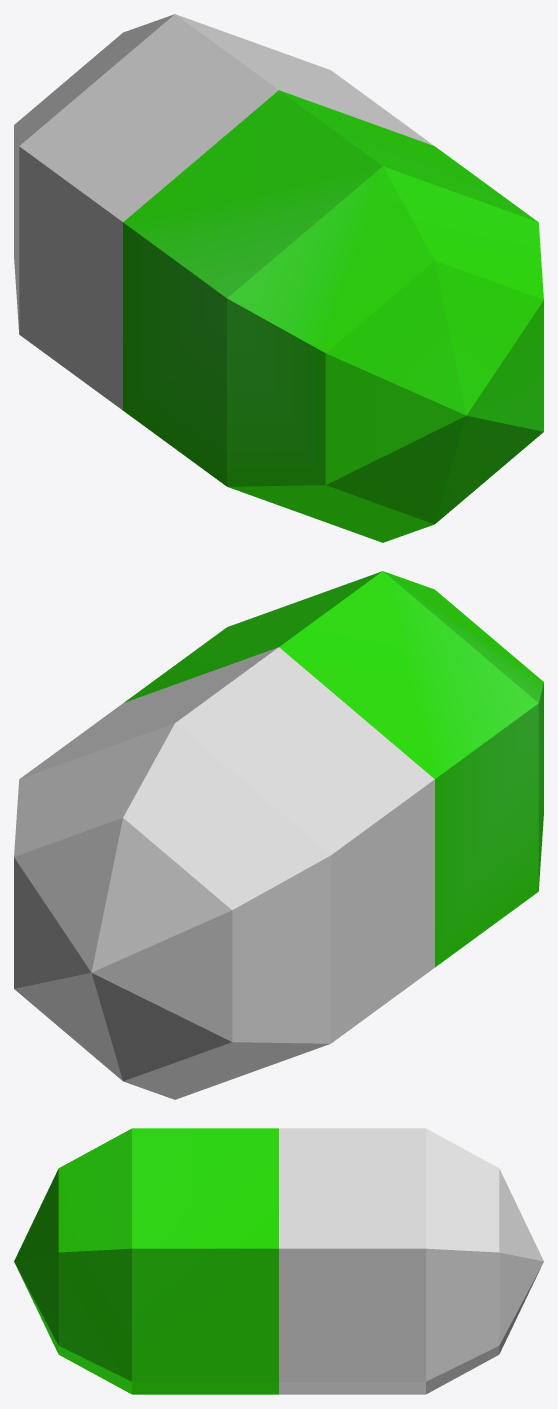
File: pill.glb
3 renders of one model, top to bottom at view 1: azimuth 30°, elevation 25°; view 2: azimuth 150°, elevation 25°; view 3: azimuth 270°, elevation 25°, orthographic. The views are drawn at different scales.
Visible parts, largest first — view 1: Cylinder; view 2: Cylinder; view 3: Cylinder.
Boxes of the visible parts, x1,y1,x2,y2 form: Cylinder: (14, 14, 543, 542); Cylinder: (14, 571, 543, 1099); Cylinder: (14, 1128, 543, 1394).
Bounding box in the file's own units: 1.73 × 2 × 3.61.
